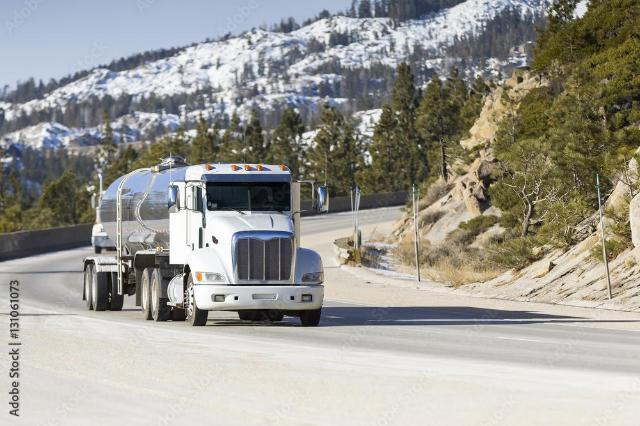truck: (73, 161, 333, 331)
